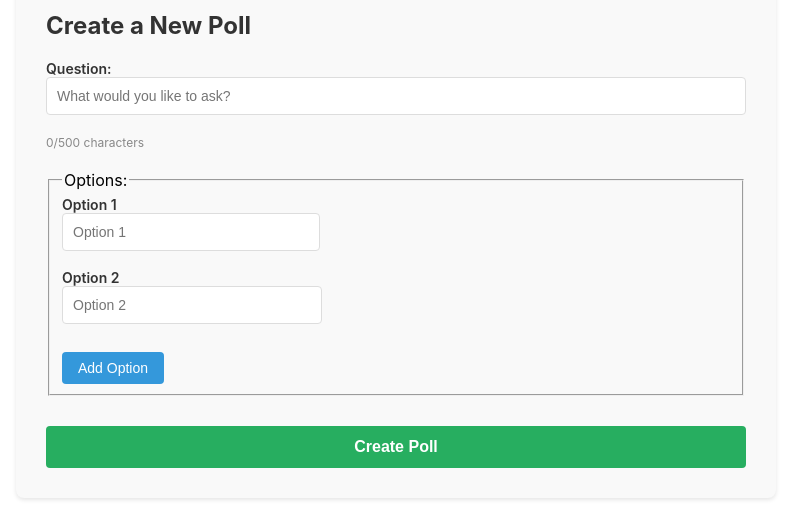
HostDashboard - Option Input Focus (US1) › T004 [US1]: maintains focus when typing a single character
# Click into the input to focus it
Step 1. Click the field with placeholder "Option 1" → (191, 232), box x1=62 y1=212 x2=320 y2=250
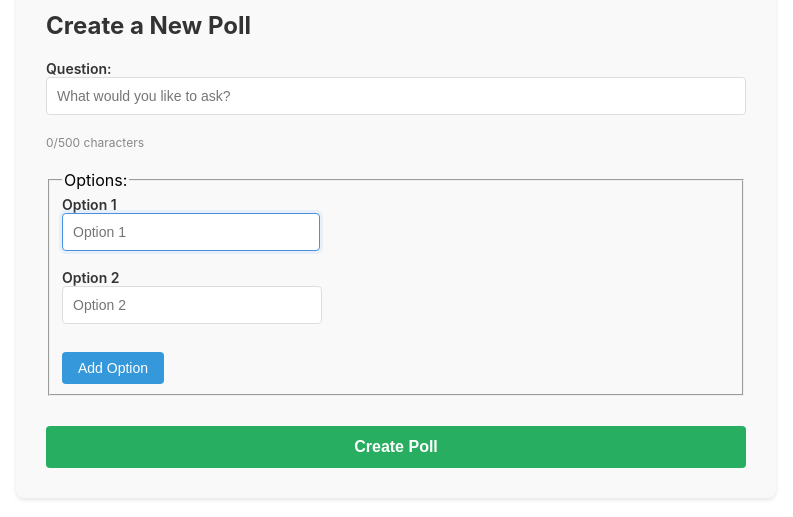
# Type a single character
Step 2. Type keys "A"
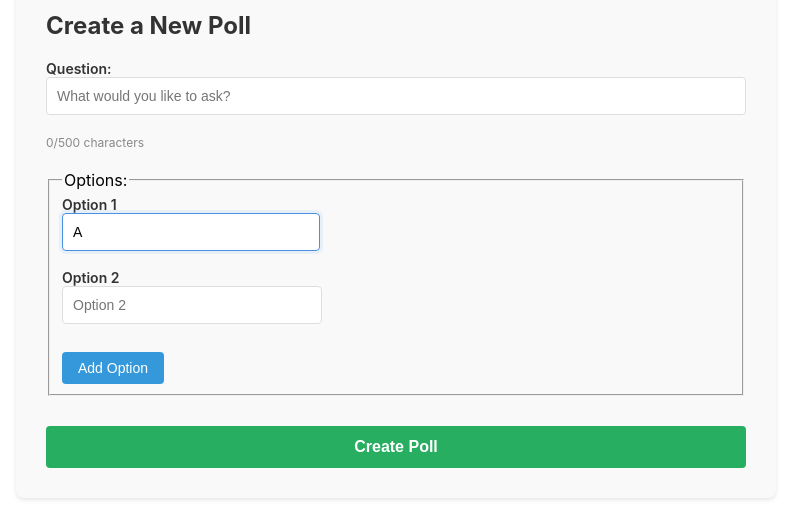
Expected: the field with placeholder "Option 1" holds "A", x1=62 y1=212 x2=320 y2=250
